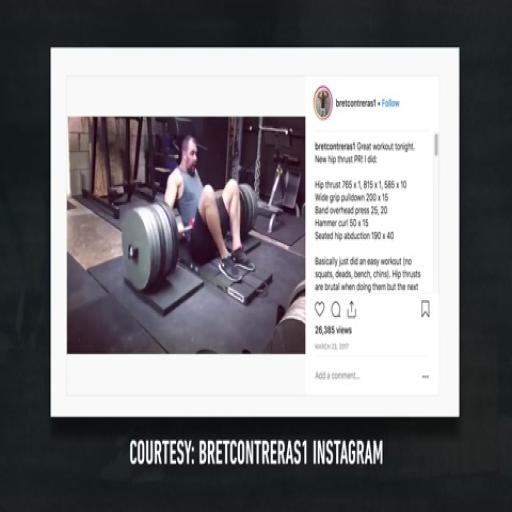exercise: (161, 132, 258, 283)
